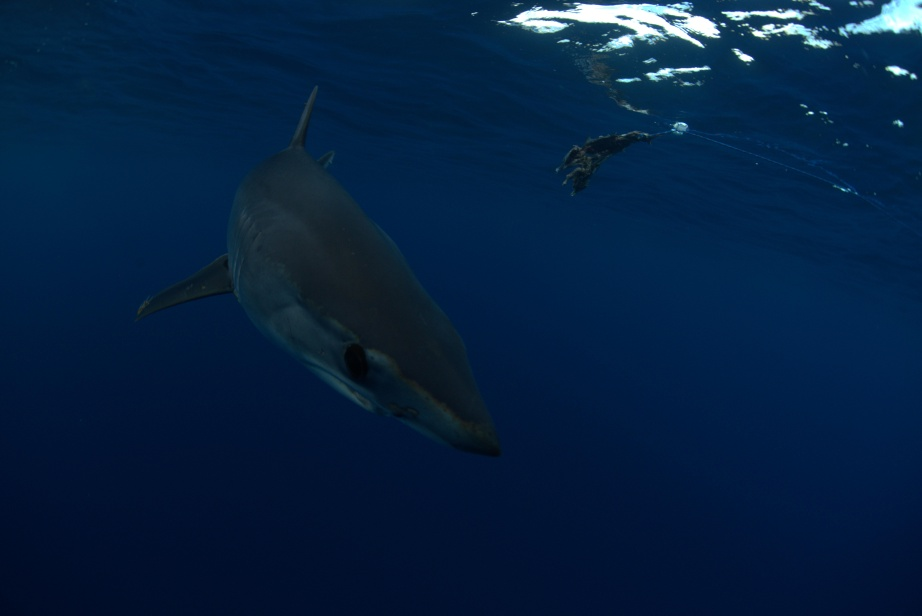Mako: (127, 84, 505, 462)
